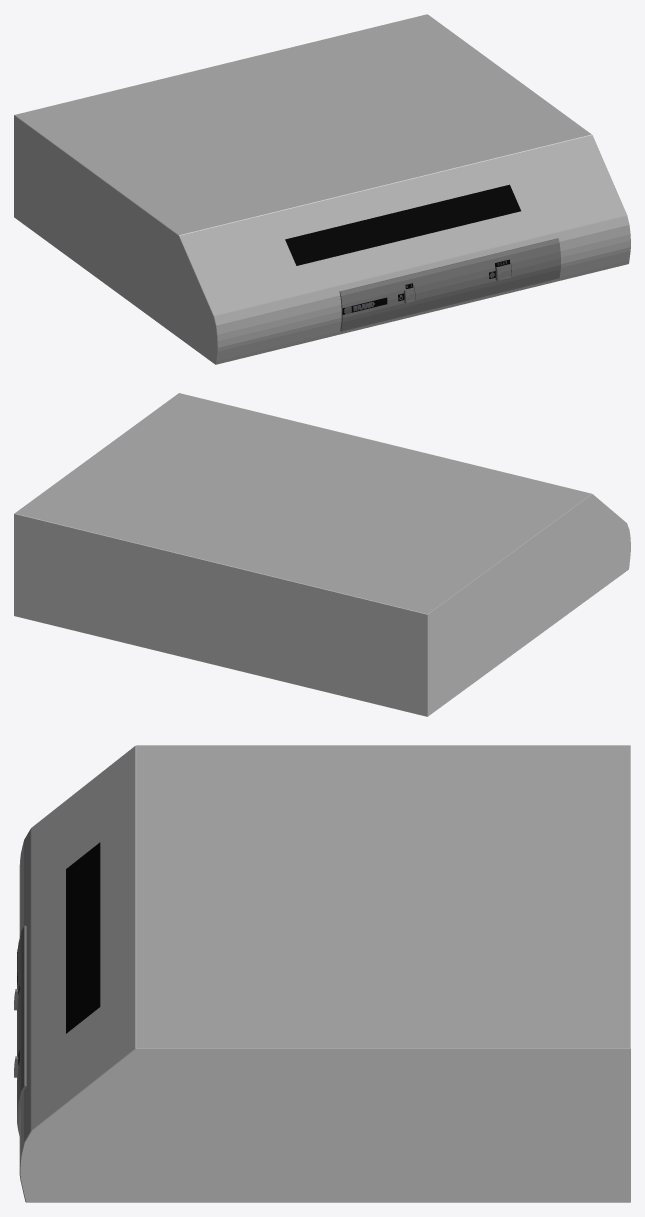
The model's file is kitchenHood.obj.
The picture shows the model from 3 angles, top to bottom: view 1: azimuth 30°, elevation 25°; view 2: azimuth 150°, elevation 25°; view 3: azimuth 270°, elevation 25°; orthographic projection. The views are drawn at different scales.
Visible parts, largest first — view 1: hood_Cube, components_Cube.003; view 2: hood_Cube; view 3: hood_Cube, components_Cube.003.
Boxes of the visible parts, box(x1,y1,x2,y2) form: hood_Cube: box(14, 14, 630, 364); components_Cube.003: box(285, 184, 520, 314); hood_Cube: box(14, 393, 630, 716); hood_Cube: box(14, 745, 630, 1202); components_Cube.003: box(17, 842, 100, 1065).
Bounding box in the file's own units: 59.8 × 14.3 × 51.42.
5 materials, 1 textured.
